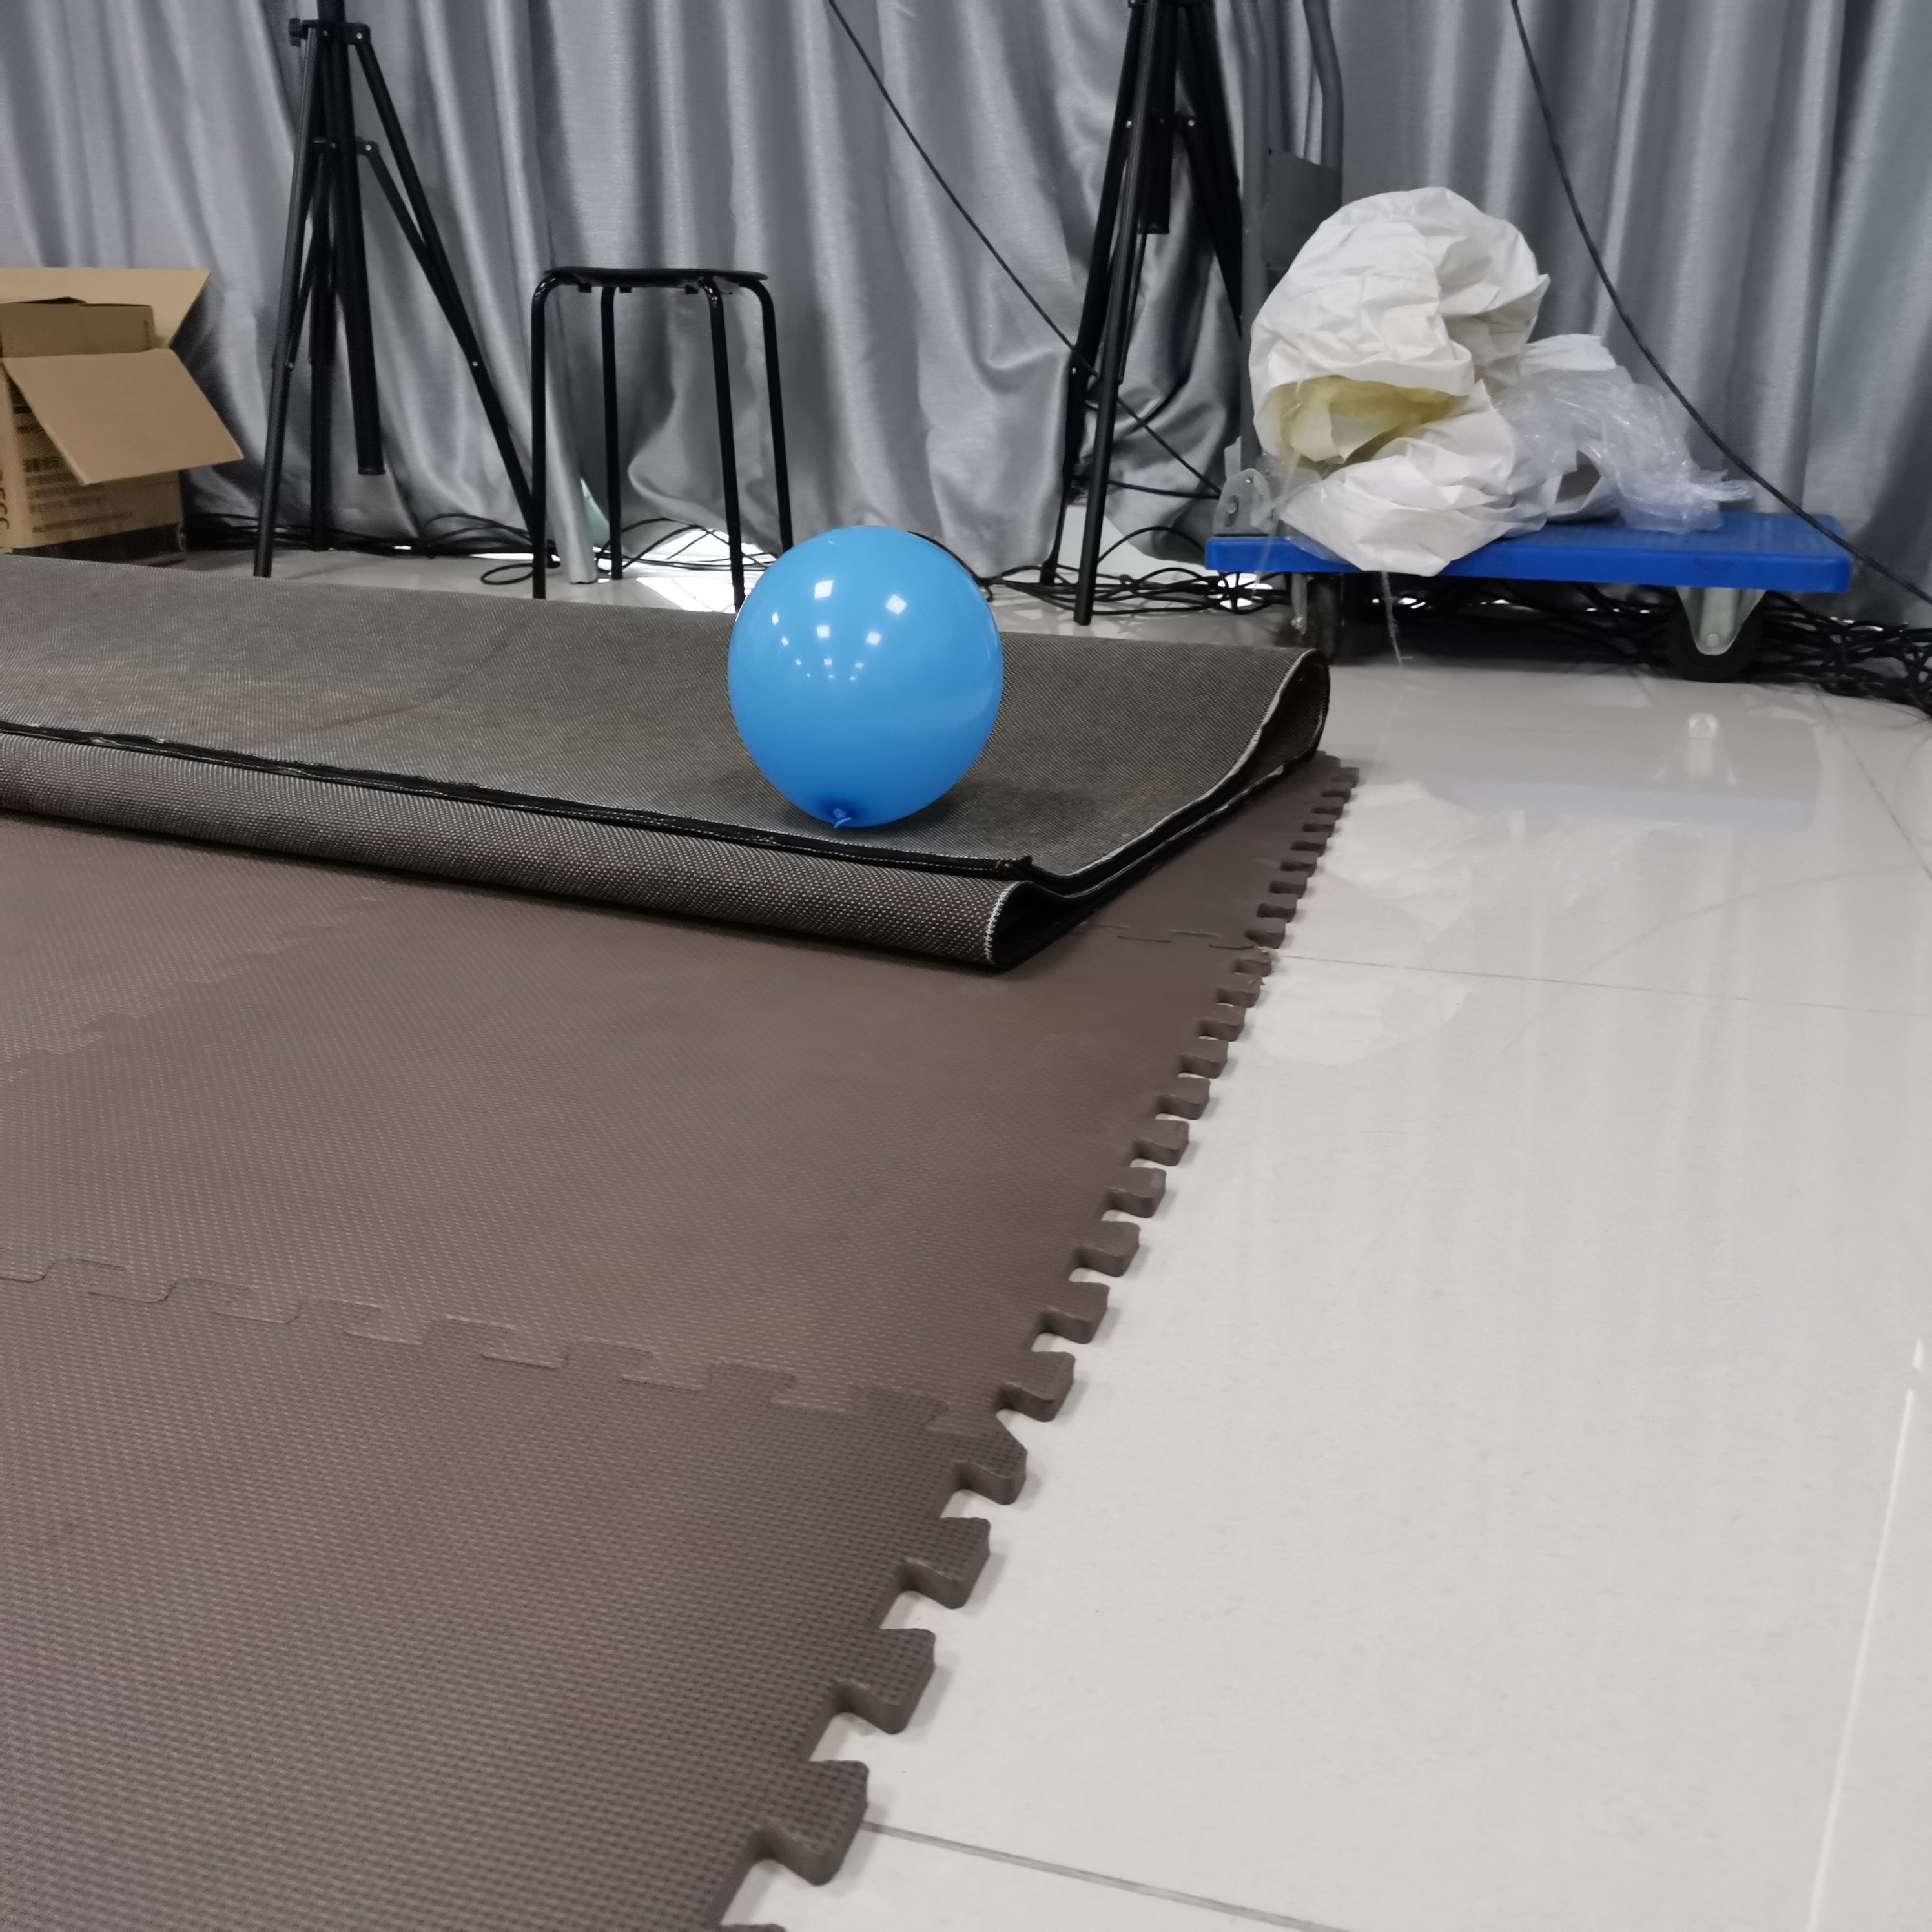balloon: (727, 527, 1003, 832)
